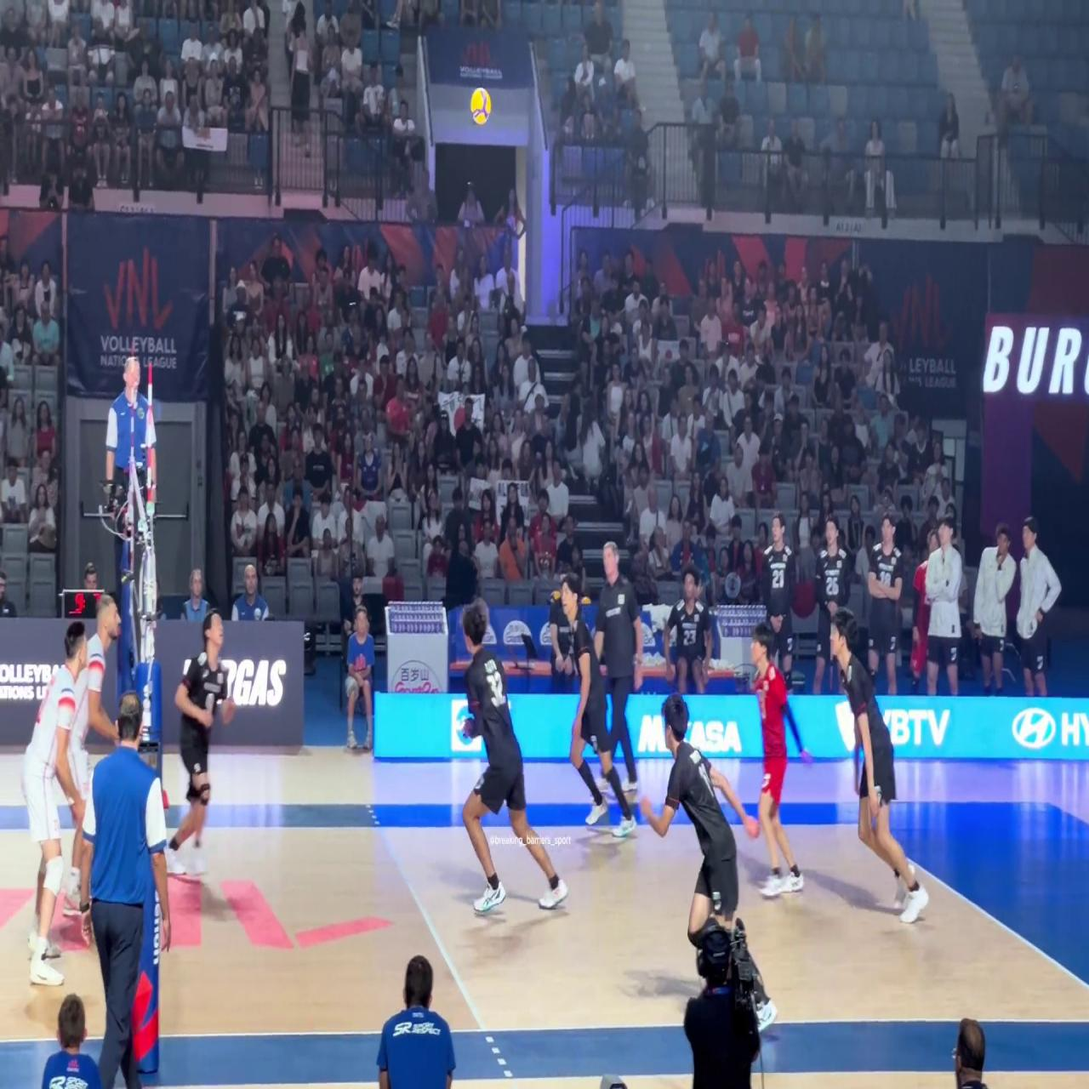ball: (470, 89, 492, 123)
